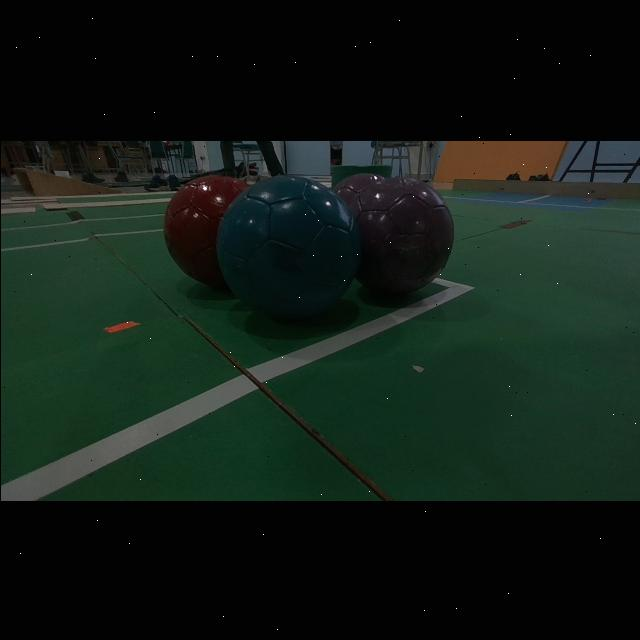B: (216, 174, 359, 318)
P: (348, 177, 453, 294), (332, 172, 383, 204)
R: (163, 174, 246, 286)
